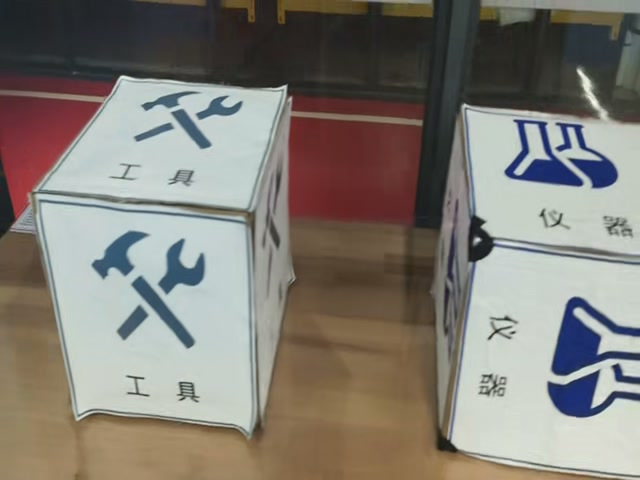Cube_ins: (30, 71, 293, 224)
